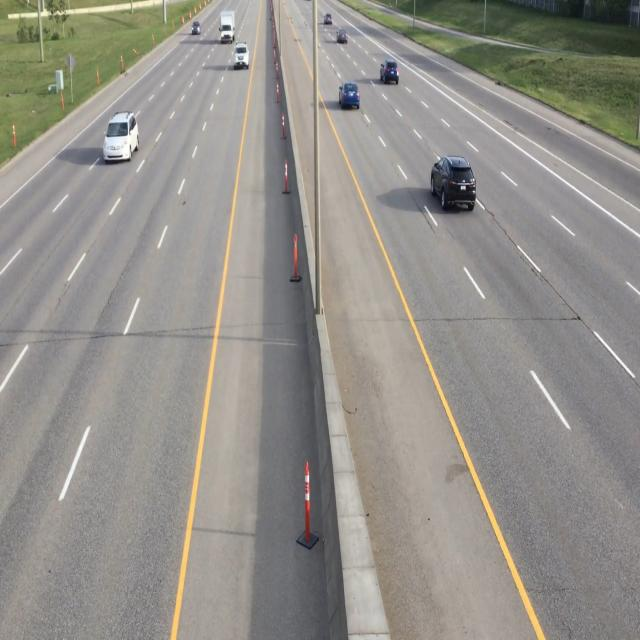Car: (430, 153, 476, 215), (104, 110, 140, 166), (340, 78, 361, 112), (219, 10, 237, 43), (381, 58, 400, 87), (233, 43, 250, 71), (336, 27, 349, 46), (191, 20, 202, 38)
